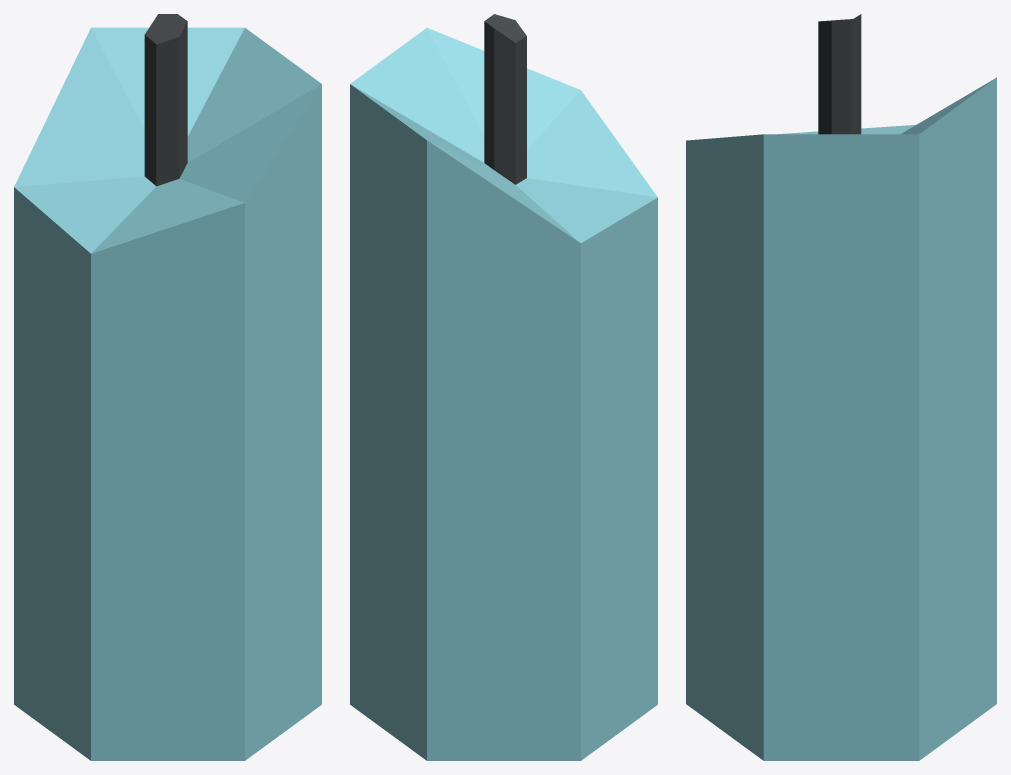
The model's file is Candle.fbx.
3 renders of one model, left to right at view 1: azimuth 30°, elevation 25°; view 2: azimuth 150°, elevation 25°; view 3: azimuth 270°, elevation 25°, orthographic.
Parts seen in each view (by area): view 1: Candle; view 2: Candle; view 3: Candle.
Boxes of the visible parts, x1,y1,x2,y2 form: Candle: [14, 14, 321, 760]; Candle: [350, 14, 657, 760]; Candle: [686, 14, 996, 760].
Bounding box in the file's own units: 0.1732 × 0.4898 × 0.2.
